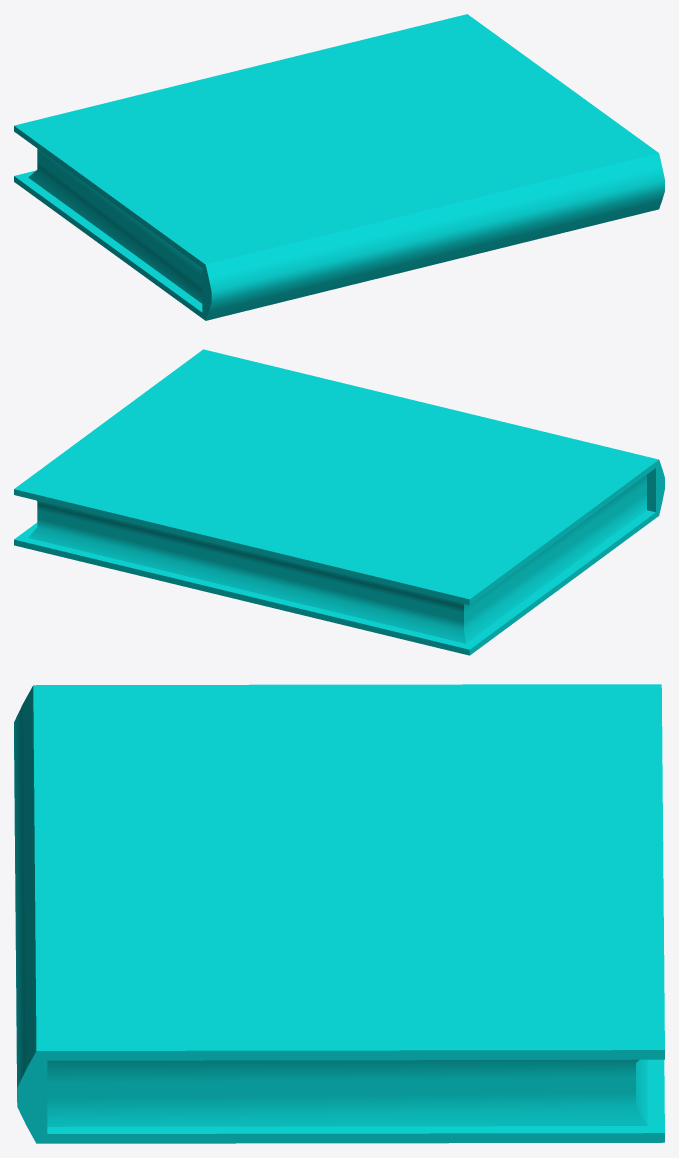
Rendered from Livres_seule_03.fbx.
The picture shows the model from 3 angles, top to bottom: view 1: azimuth 30°, elevation 25°; view 2: azimuth 150°, elevation 25°; view 3: azimuth 270°, elevation 25°; orthographic projection. The views are drawn at different scales.
Visible parts, largest first — view 1: Livres_seule2; view 2: Livres_seule2; view 3: Livres_seule2.
Part boxes in pixels (x1=…): Livres_seule2: x1=14, y1=14, x2=664, y2=320; Livres_seule2: x1=14, y1=349, x2=664, y2=655; Livres_seule2: x1=14, y1=684, x2=664, y2=1143.
Bounding box in the file's own units: 0.2629 × 0.031 × 0.1971.
